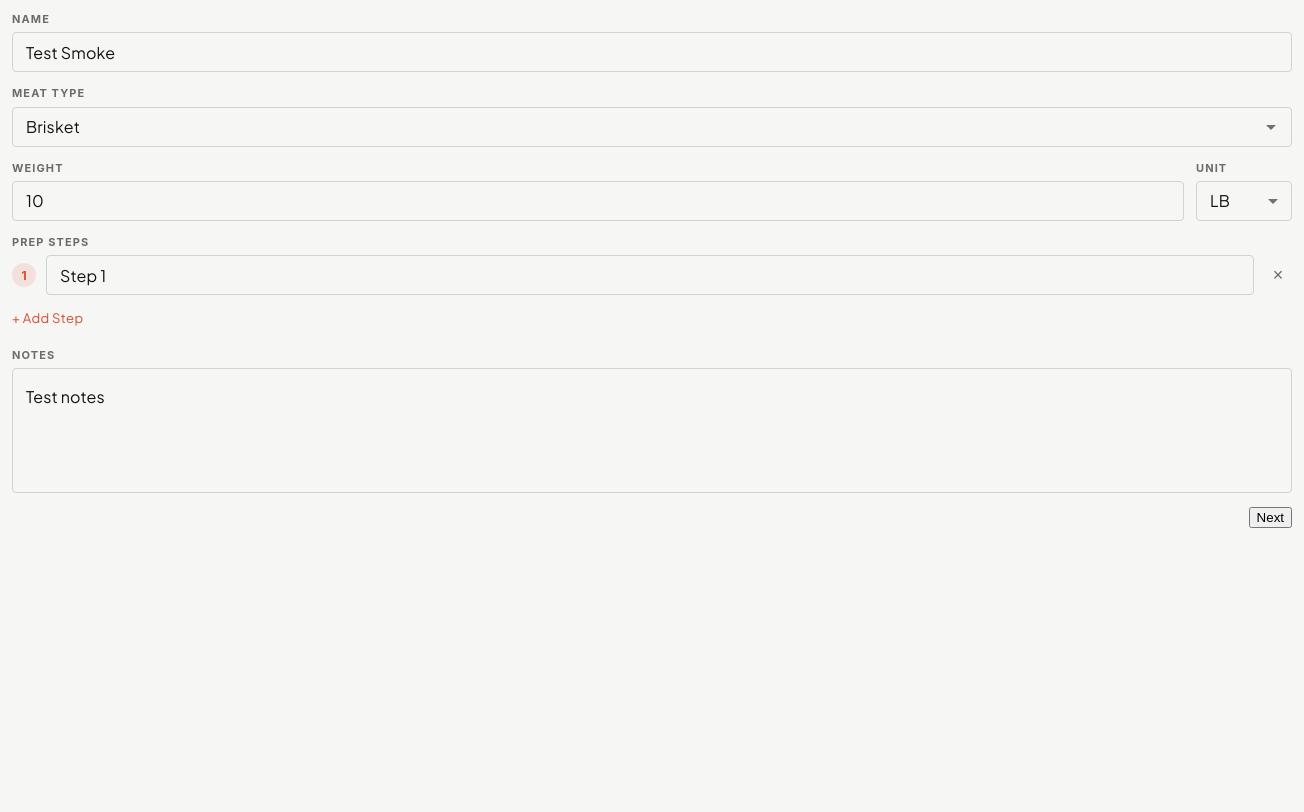
PreSmokeStep › adds, fills and removes prep-step rows, persisting the survivors in order
Check: the field showing "Test Smoke" is shown, box [12,32,1292,72]
Replace the text in the text box with test id "presmoke-step-input" with "Trim the fat". click: {"x": 650, "y": 275}
box: [60,264,1240,287]
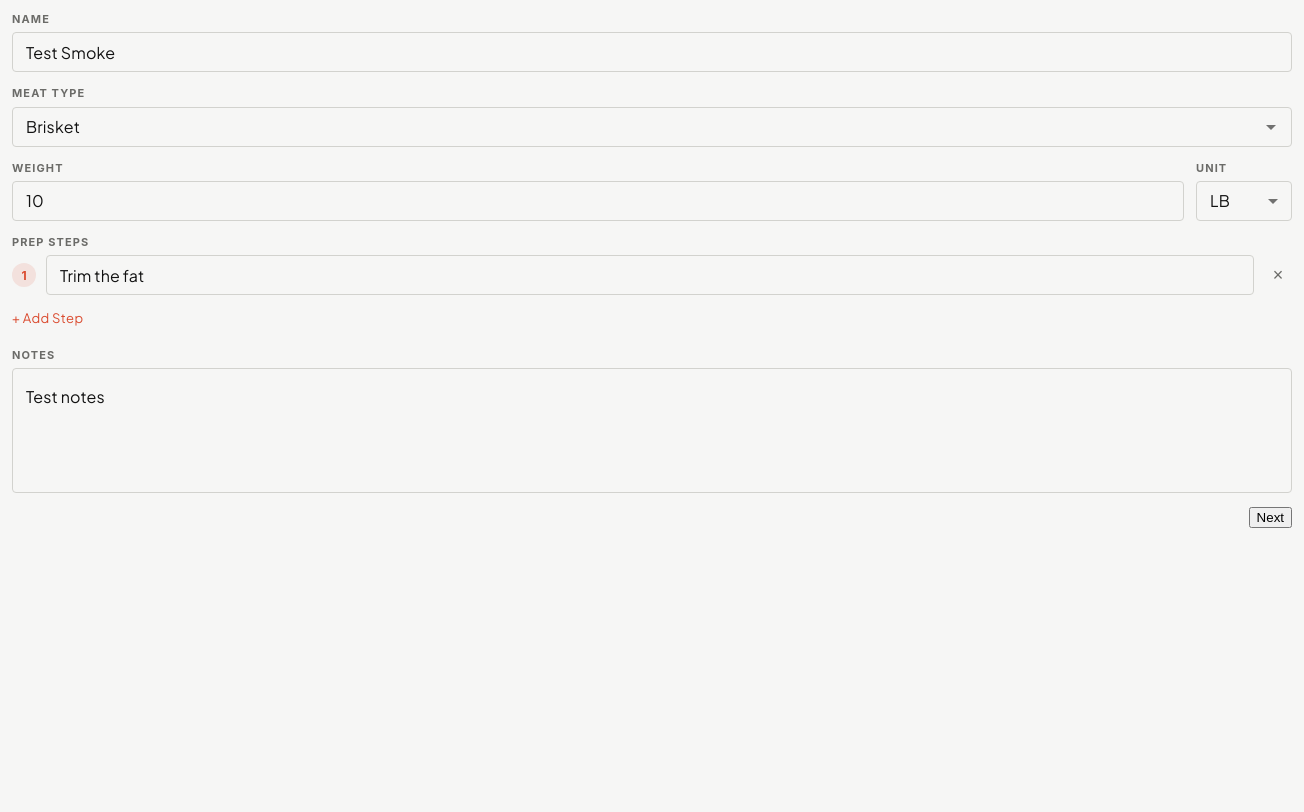
Click the button with test id "presmoke-step-add-button". click: {"x": 50, "y": 319}
box: [12,303,88,334]
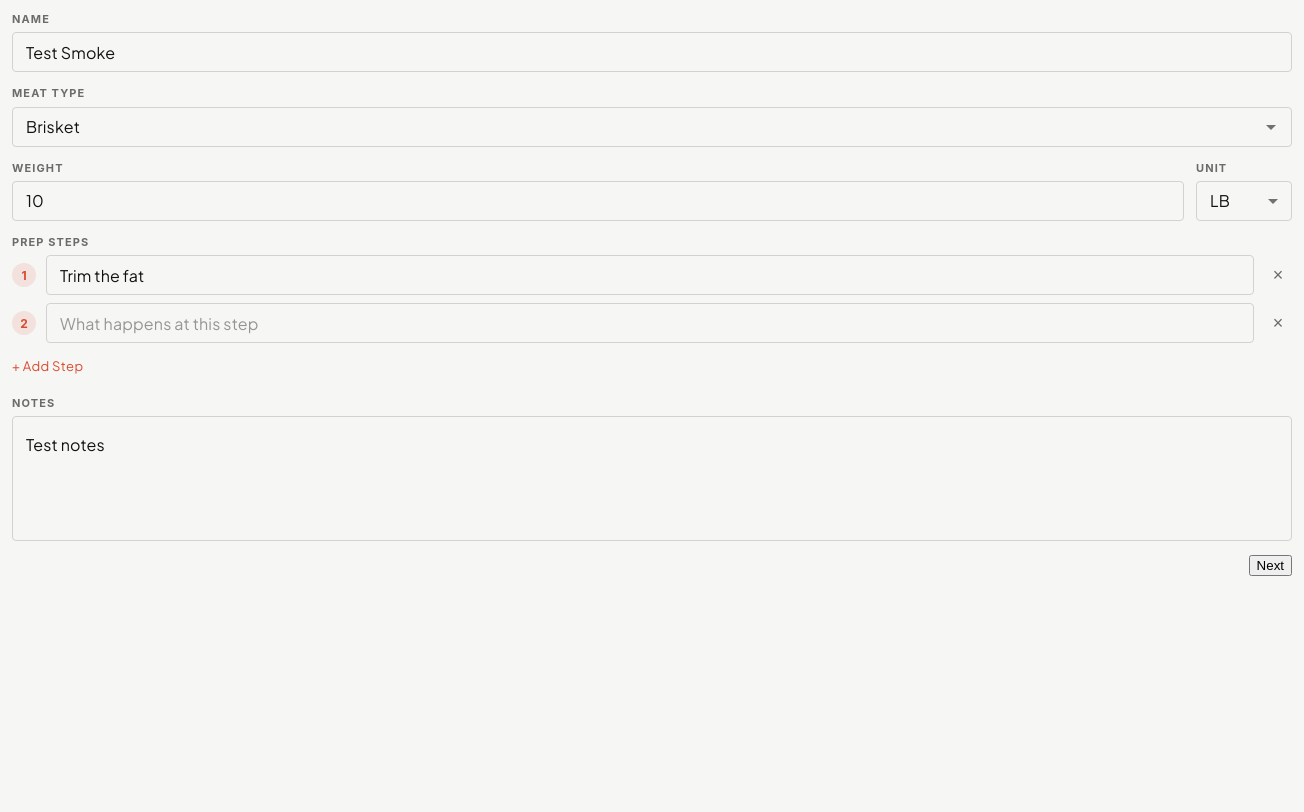
Type "Dry brine overnight" into the text box with test id "presmoke-step-input" showing "What happens at this step". click: {"x": 650, "y": 323}
box: [60,312,1240,335]
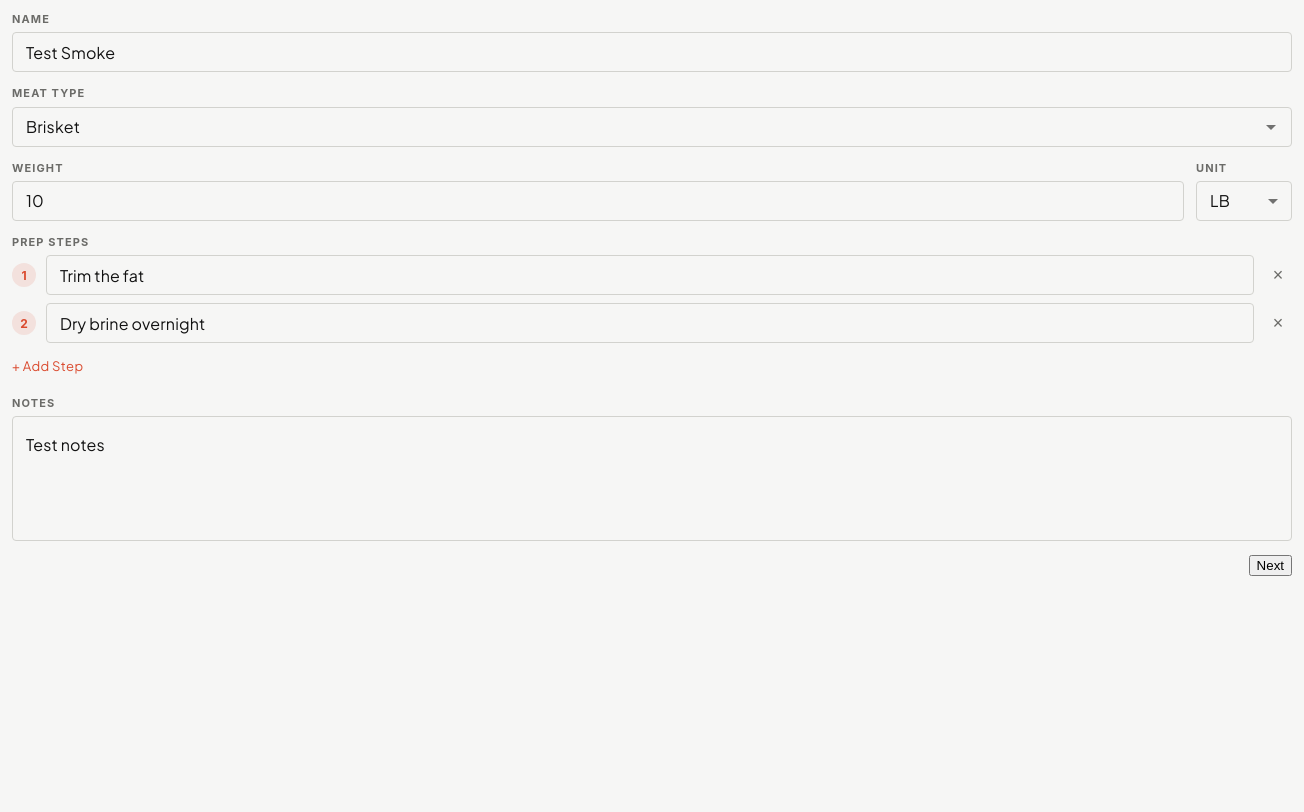
Click the button with test id "presmoke-step-add-button". click: {"x": 50, "y": 367}
box: [12,351,88,382]
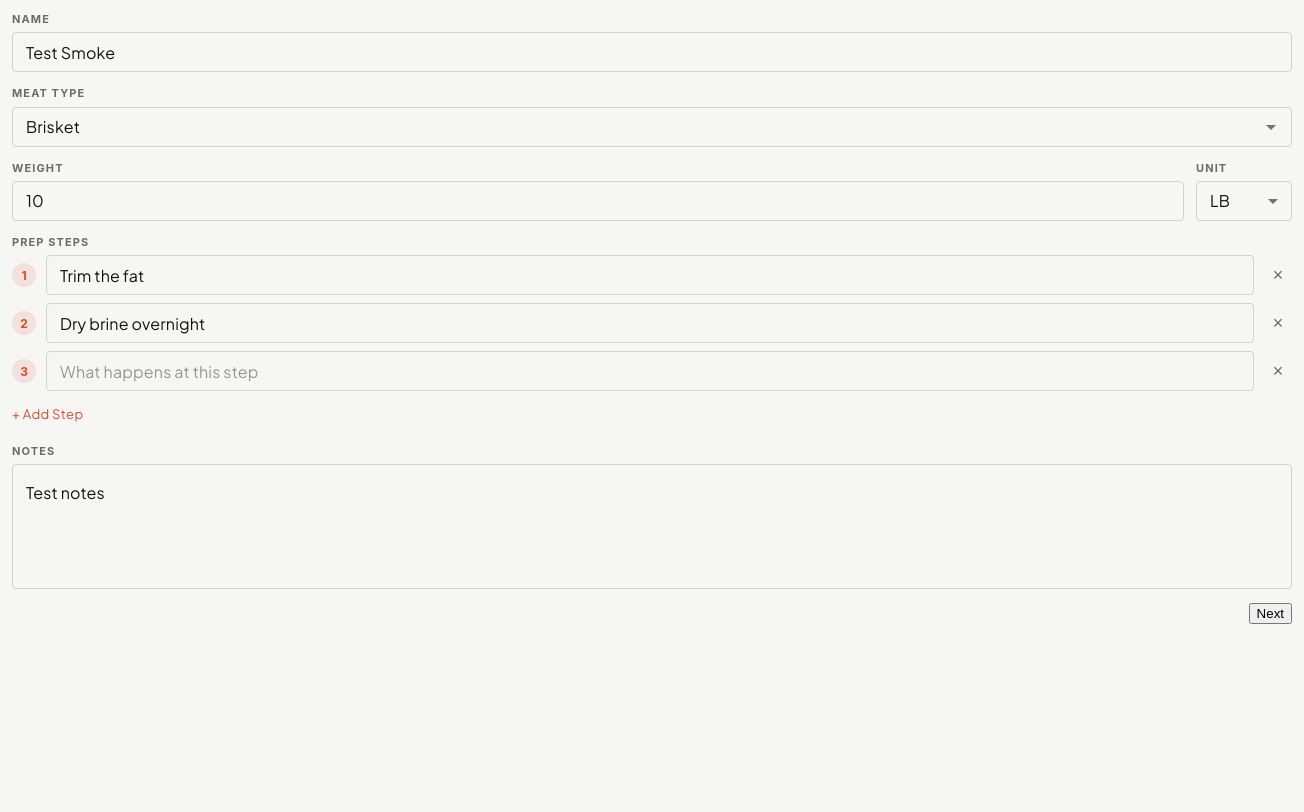
Type "Rub two hours ahead" into the text box with test id "presmoke-step-input" showing "What happens at this step". click: {"x": 650, "y": 371}
box: [60,360,1240,383]
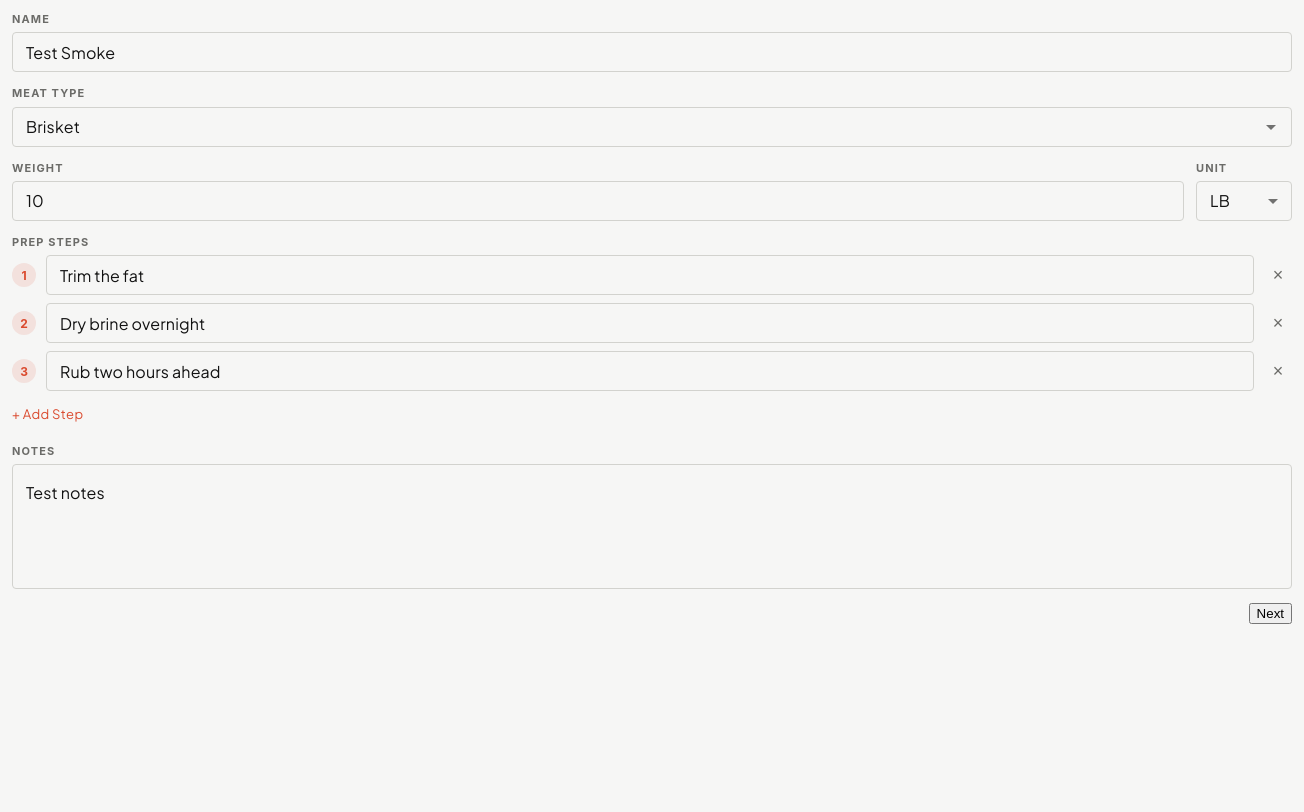
Click the 2nd button with test id "presmoke-step-remove-button". click: {"x": 1278, "y": 323}
box: [1264,309,1292,337]
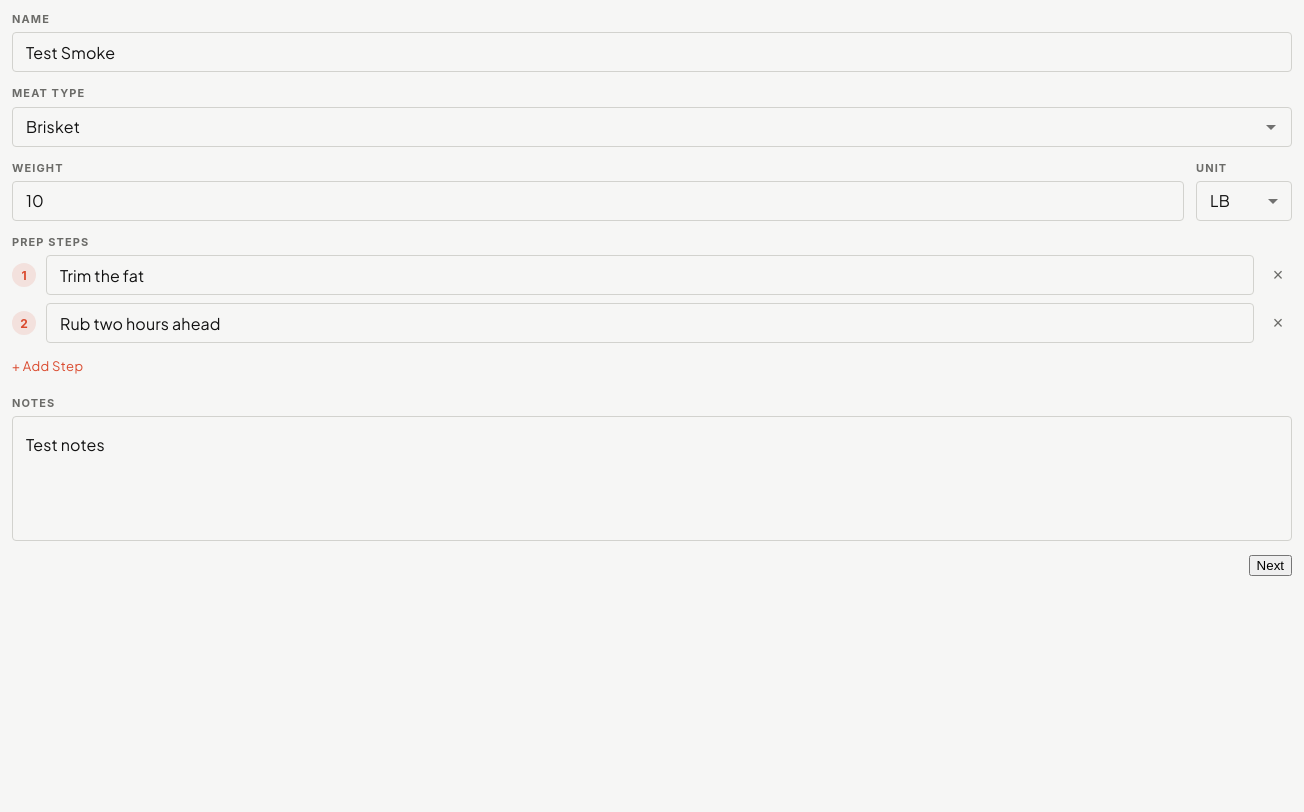
Check: the number of elements with test id "presmoke-step-row" is 2, box [12,255,1292,295]; [12,303,1292,343]
